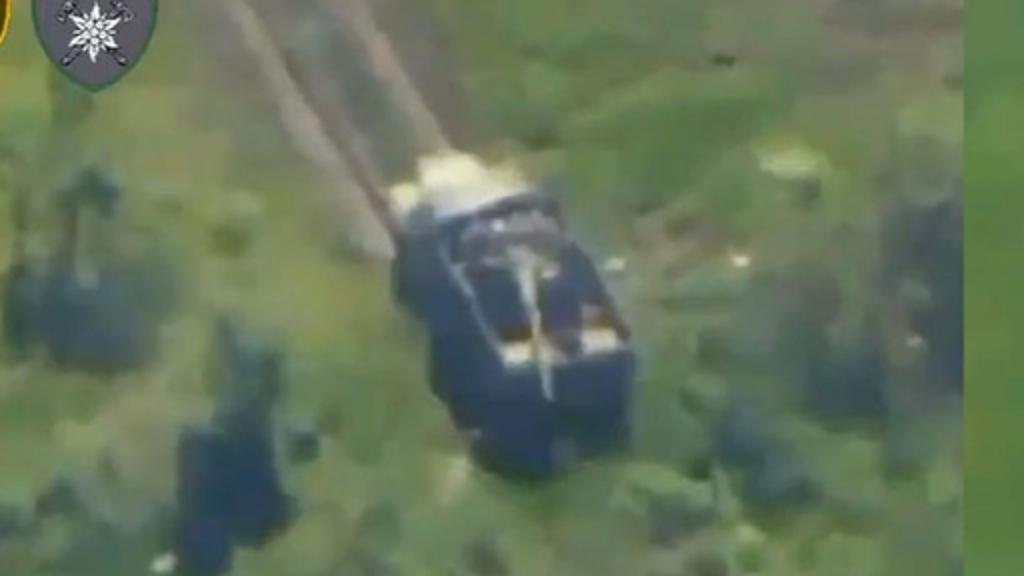TRUCK: (368, 130, 650, 434)
